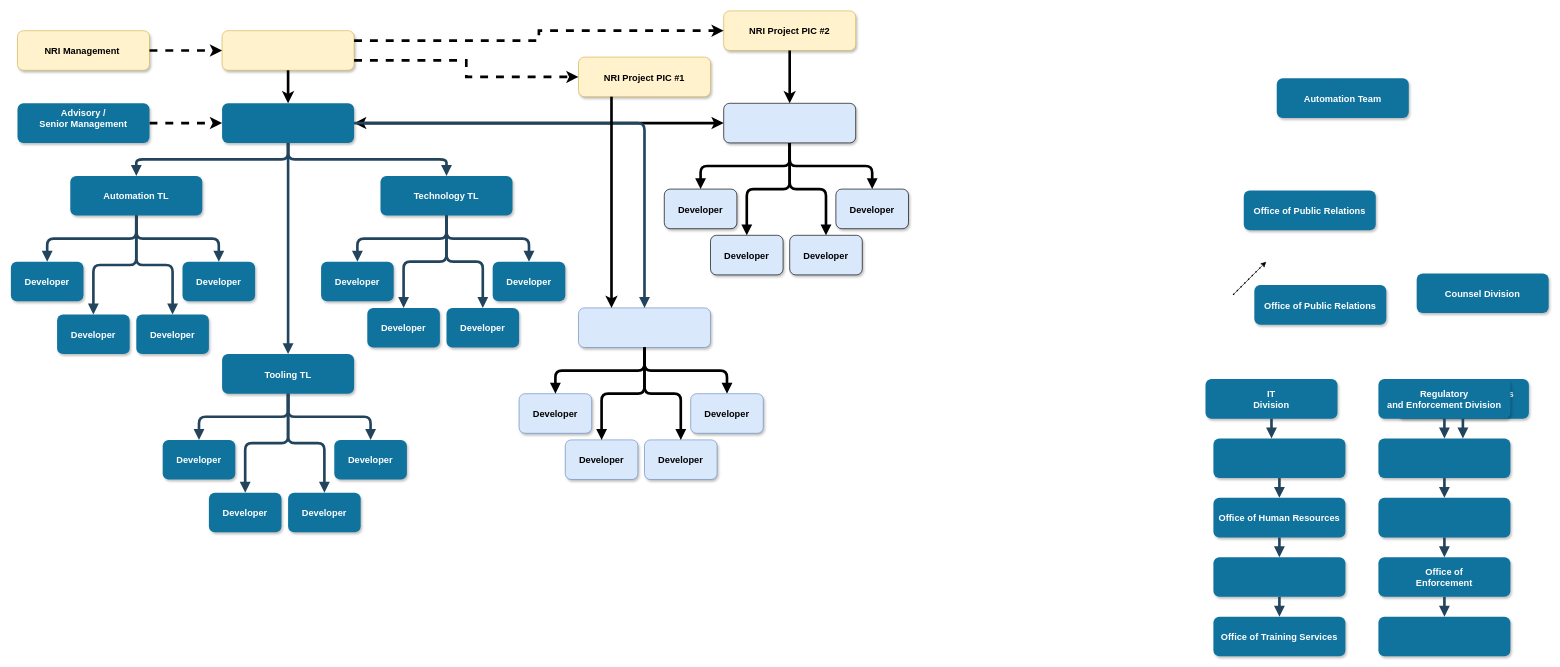
The diagram is 1560 pixels wide and 667 high, and some of its shapes have lost their labels. The shapes that lost their labels are listed below. From the top down, each one's centre as x and y in pixels, then its label:
[288,51]: NRI PIC #1
[288,123]: R & D Lead
[790,124]: Project Manager #2
[644,328]: Project Manager #1
[1279,458]: Office of Financial Management
[1444,458]: Office of Regulatory Policy
[1444,518]: Office Compliance
[1279,577]: Office of Management
[1444,637]: Office of Regulatory Support
